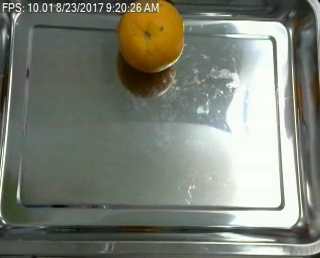Orange: (118, 1, 186, 73)
